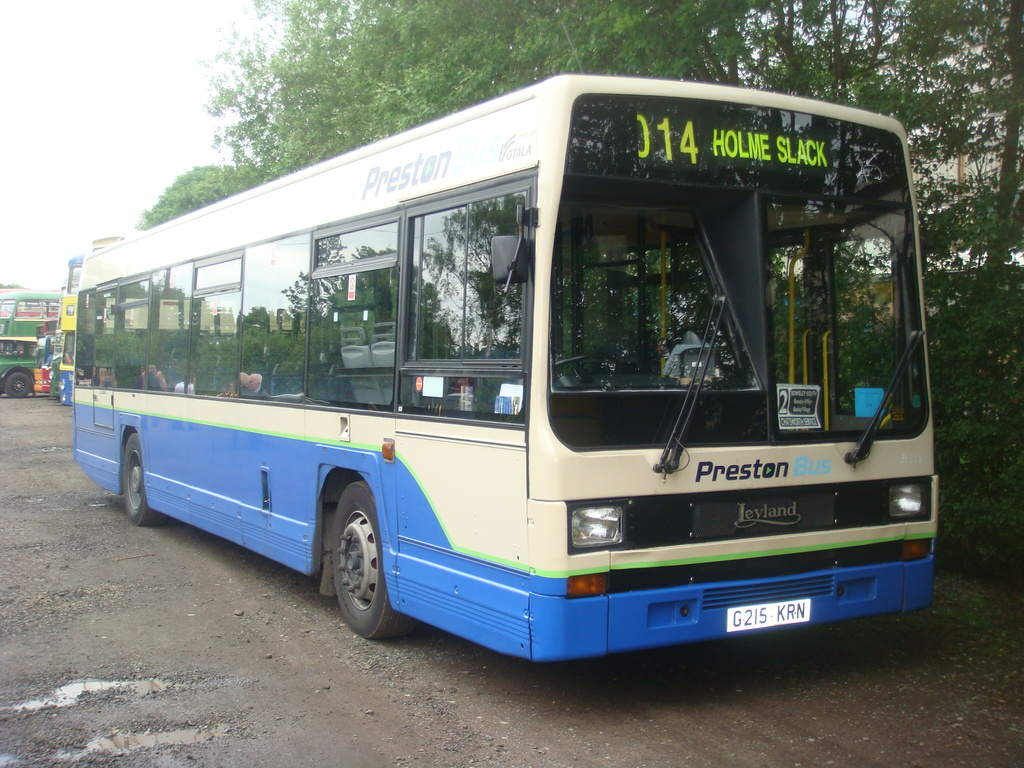Bus: (72, 73, 939, 664), (0, 298, 54, 393), (52, 258, 78, 402)
